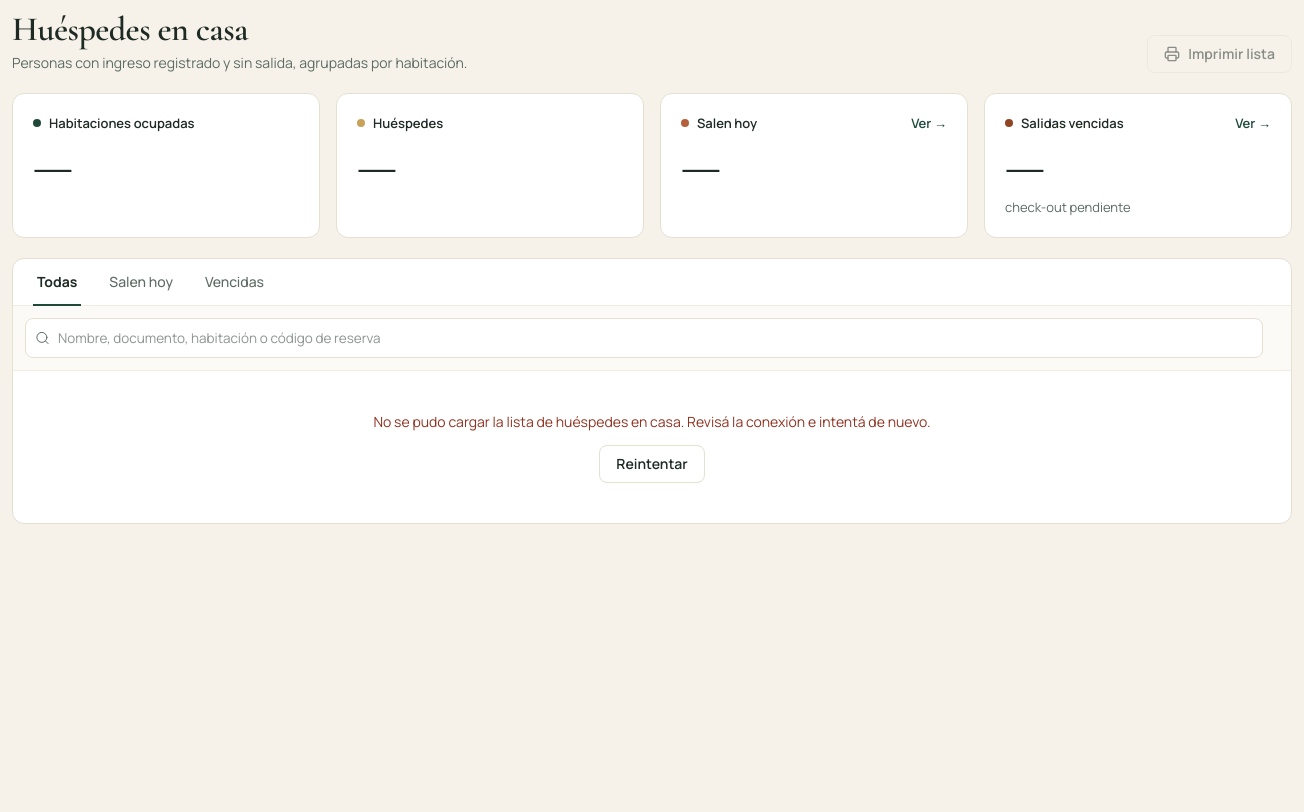
AlojadosPage › si falla la consulta muestra un mensaje claro con Reintentar
Expected: the message shows "No se pudo cargar la lista", x1=373 y1=412 x2=930 y2=431
Step 1. Click the button "Reintentar" → [652, 464], box x1=599 y1=445 x2=705 y2=483
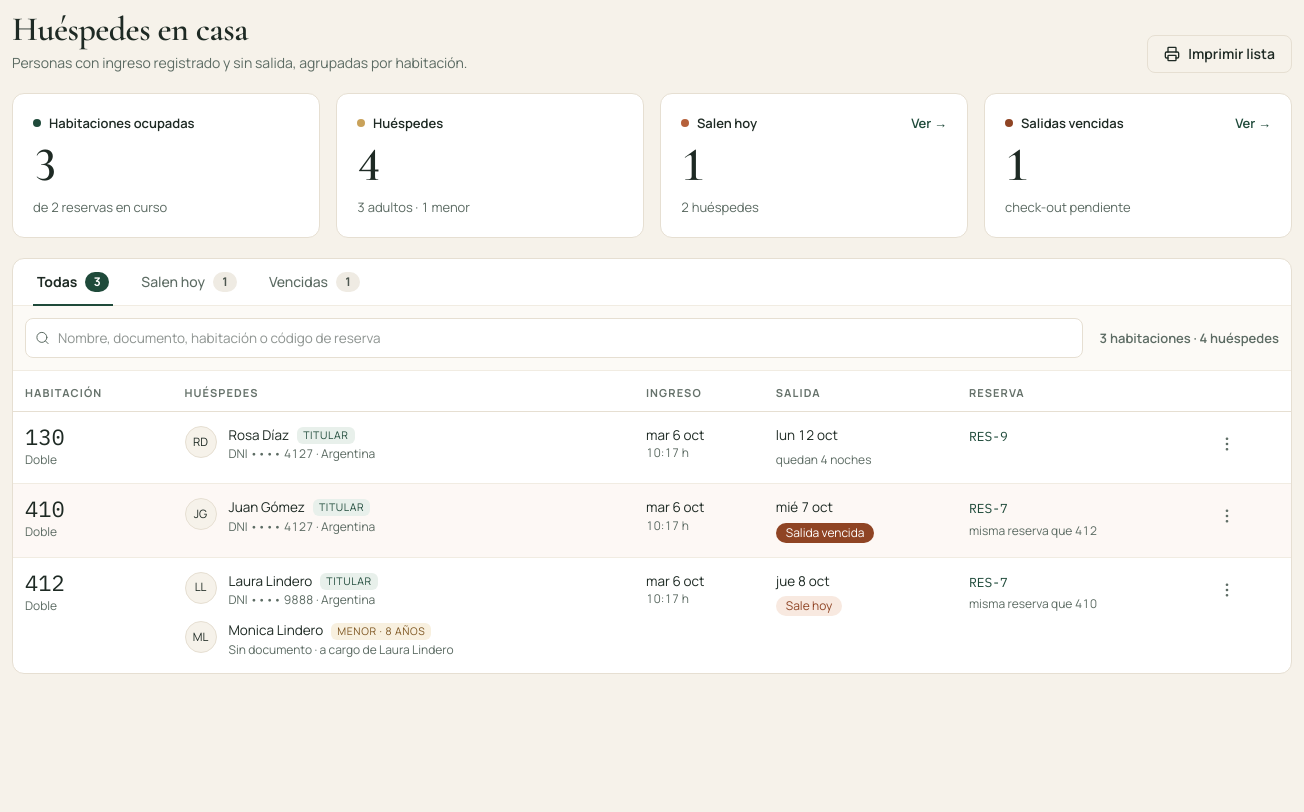
Now the text "Rosa Díaz" is shown, box x1=228 y1=426 x2=289 y2=445
Now the table is shown, box x1=13 y1=371 x2=1291 y2=673
